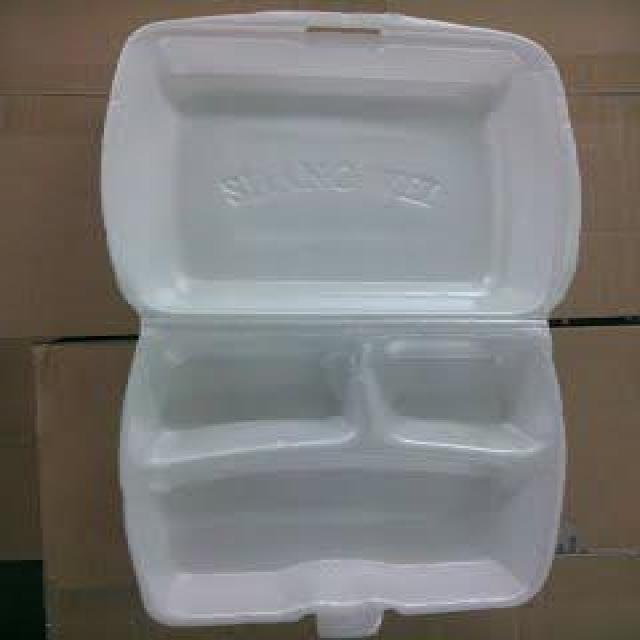styrofoam: (96, 8, 584, 638)
